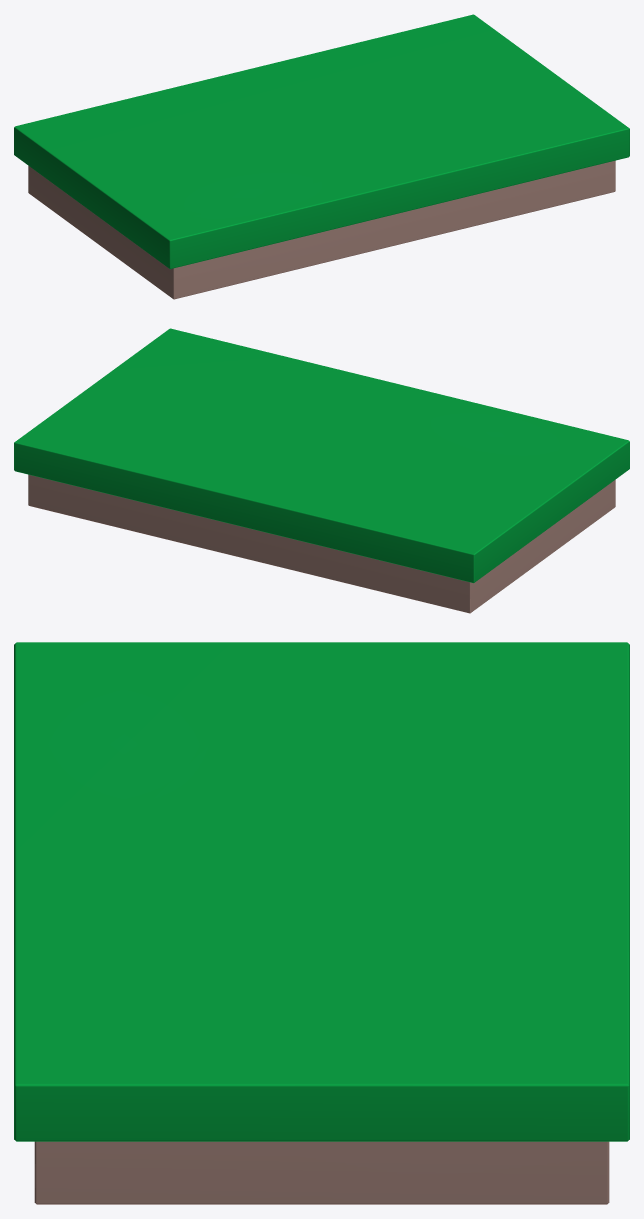
The model's file is Farm_14_Base_1.glb.
3 views of the same model, one above another, from view 1: azimuth 30°, elevation 25°; view 2: azimuth 150°, elevation 25°; view 3: azimuth 270°, elevation 25° (orthographic). The views are drawn at different scales.
Visible parts, largest first — view 1: Farm_14_Base_1; view 2: Farm_14_Base_1; view 3: Farm_14_Base_1.
Part boxes in pixels (bbox=[...]): Farm_14_Base_1: bbox=[14, 14, 629, 299]; Farm_14_Base_1: bbox=[14, 328, 629, 613]; Farm_14_Base_1: bbox=[14, 642, 629, 1204].
Size of the model in its own units: 18.73 by 2.55 by 11.
Materials: 1 (1 with a texture image).
